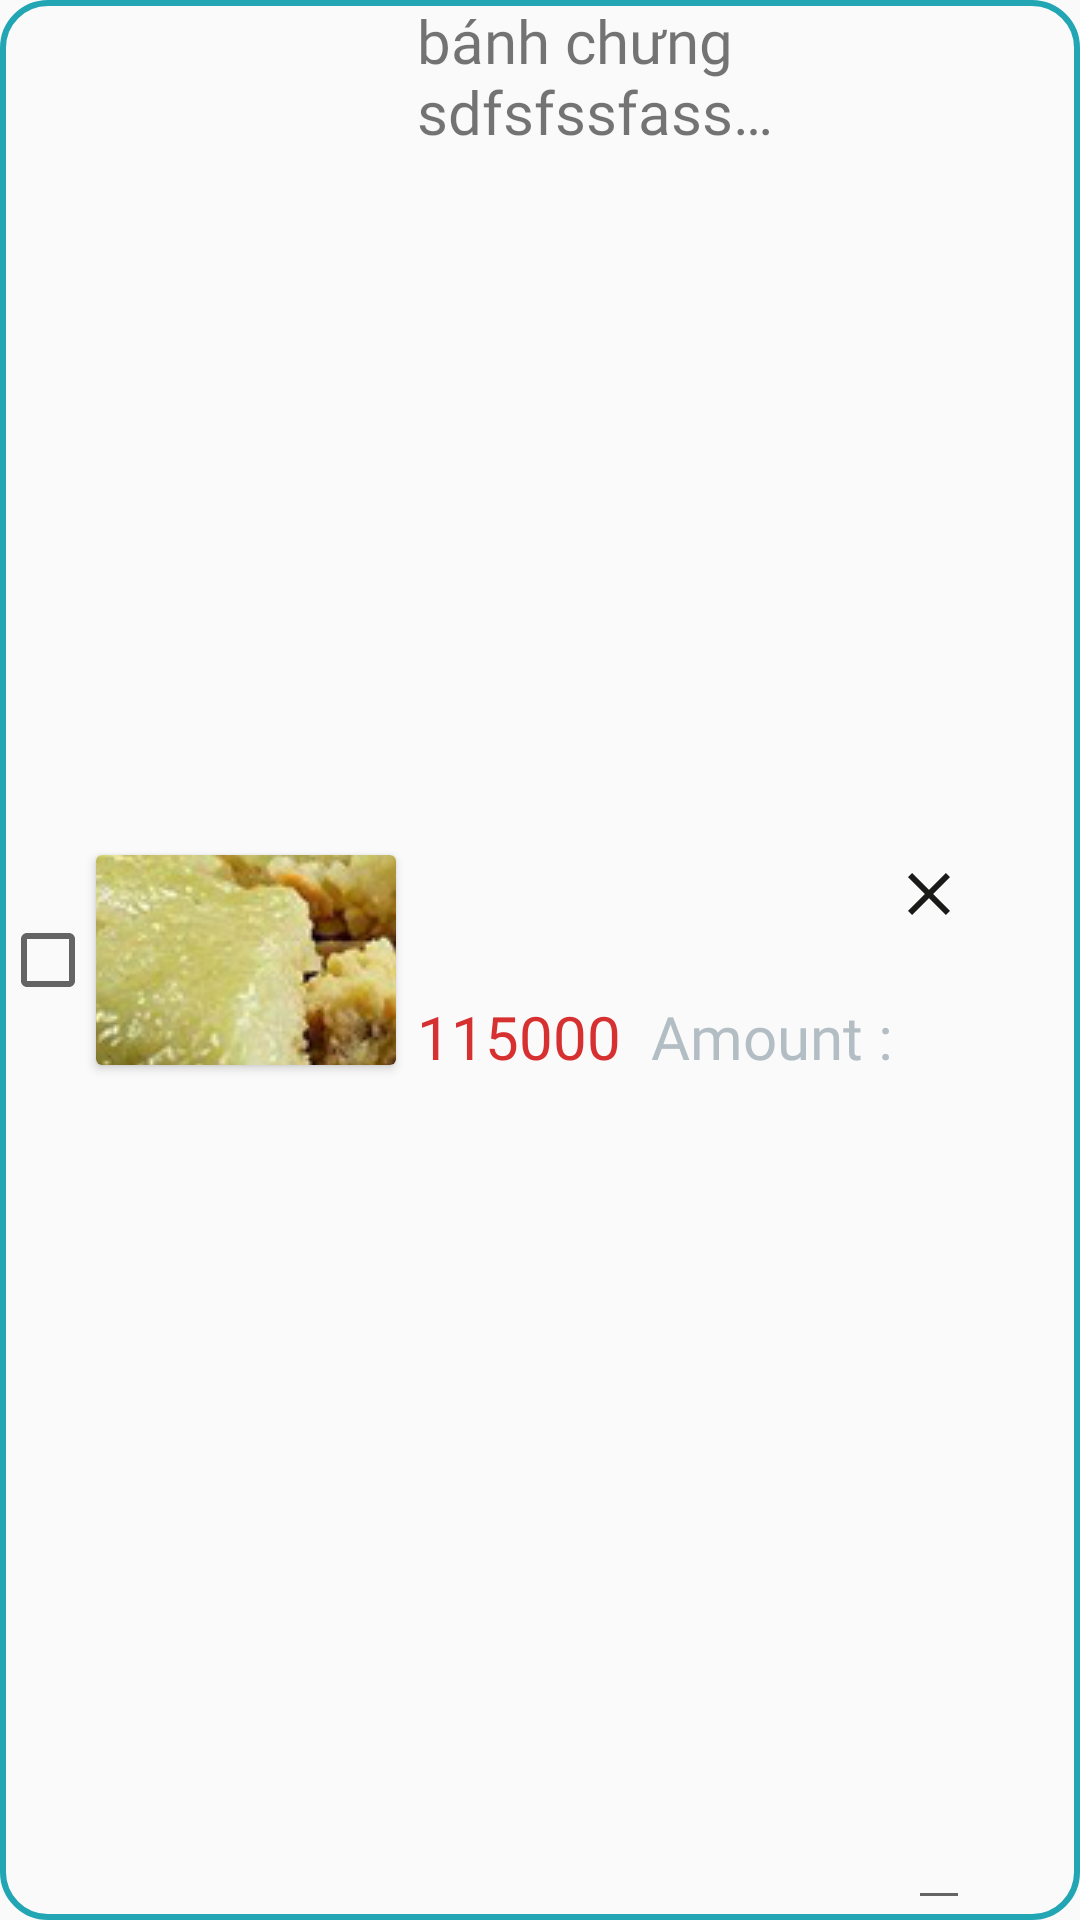

Named icons in this screenshot (1080px x 1920px) and their bounding boxes, box=[x1, y1, x2, y2]:
banhchung: box=[96, 855, 396, 1065]
close: box=[908, 873, 950, 915]
